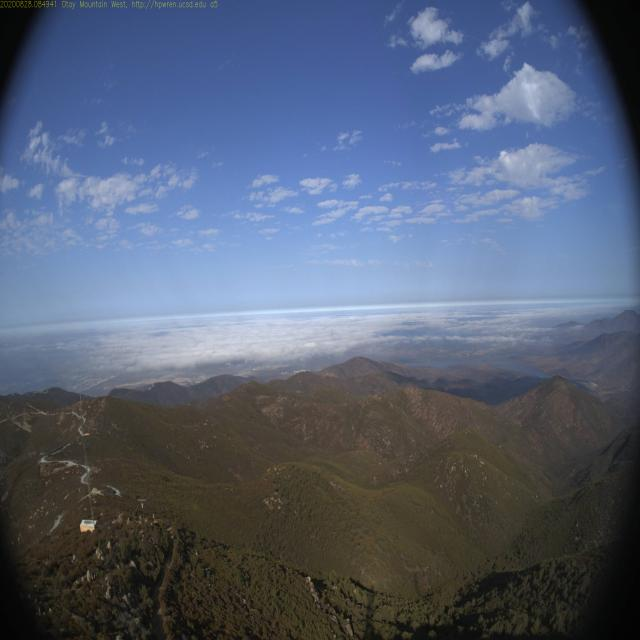smoke: (509, 355, 543, 395)
